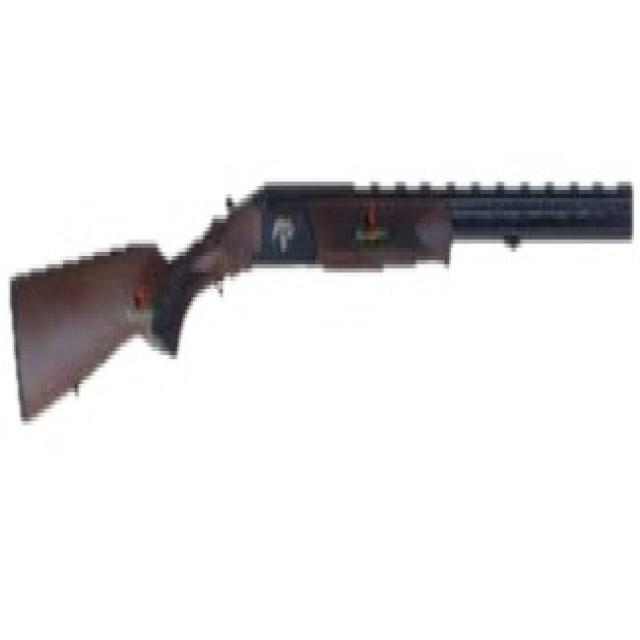rifle: (6, 145, 640, 429)
